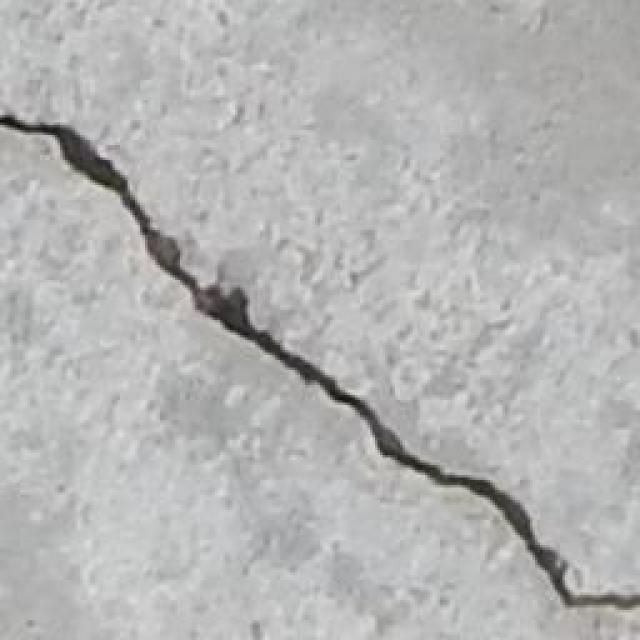concrete-crack: (3, 108, 640, 623)
